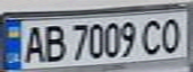0: (103, 19, 124, 58), (87, 20, 106, 60)
7: (66, 20, 90, 61)
9: (118, 18, 142, 57)
A: (18, 22, 48, 64)
B: (39, 22, 69, 63)
C: (139, 16, 166, 56)
O: (157, 15, 187, 54)
